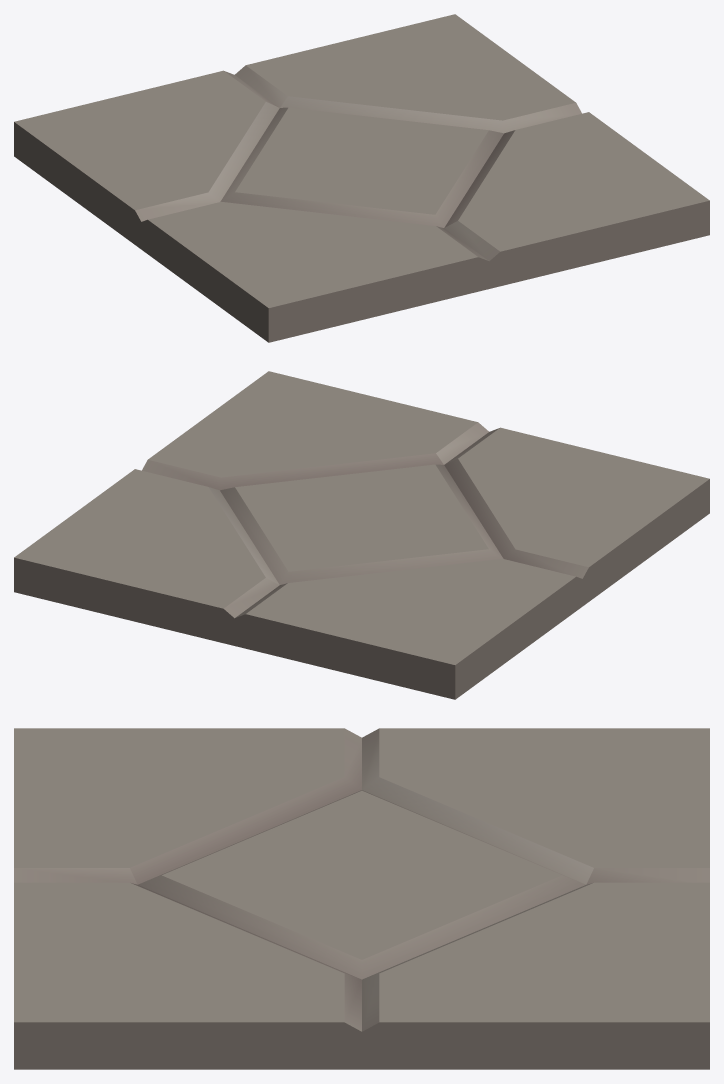
File: dungeon-floor-small.glb
The picture shows the model from 3 angles, top to bottom: view 1: azimuth 30°, elevation 25°; view 2: azimuth 150°, elevation 25°; view 3: azimuth 270°, elevation 25°; orthographic projection. The views are drawn at different scales.
Parts seen in each view (by area): view 1: dungeon-floor-small; view 2: dungeon-floor-small; view 3: dungeon-floor-small.
Part boxes in pixels (<box>): dungeon-floor-small: <box>14,14,709,342</box>; dungeon-floor-small: <box>14,371,709,699</box>; dungeon-floor-small: <box>14,728,709,1069</box>.
Bounding box in the file's own units: 1.5 × 0.1124 × 1.5.
Materials: 1 (1 with a texture image).
